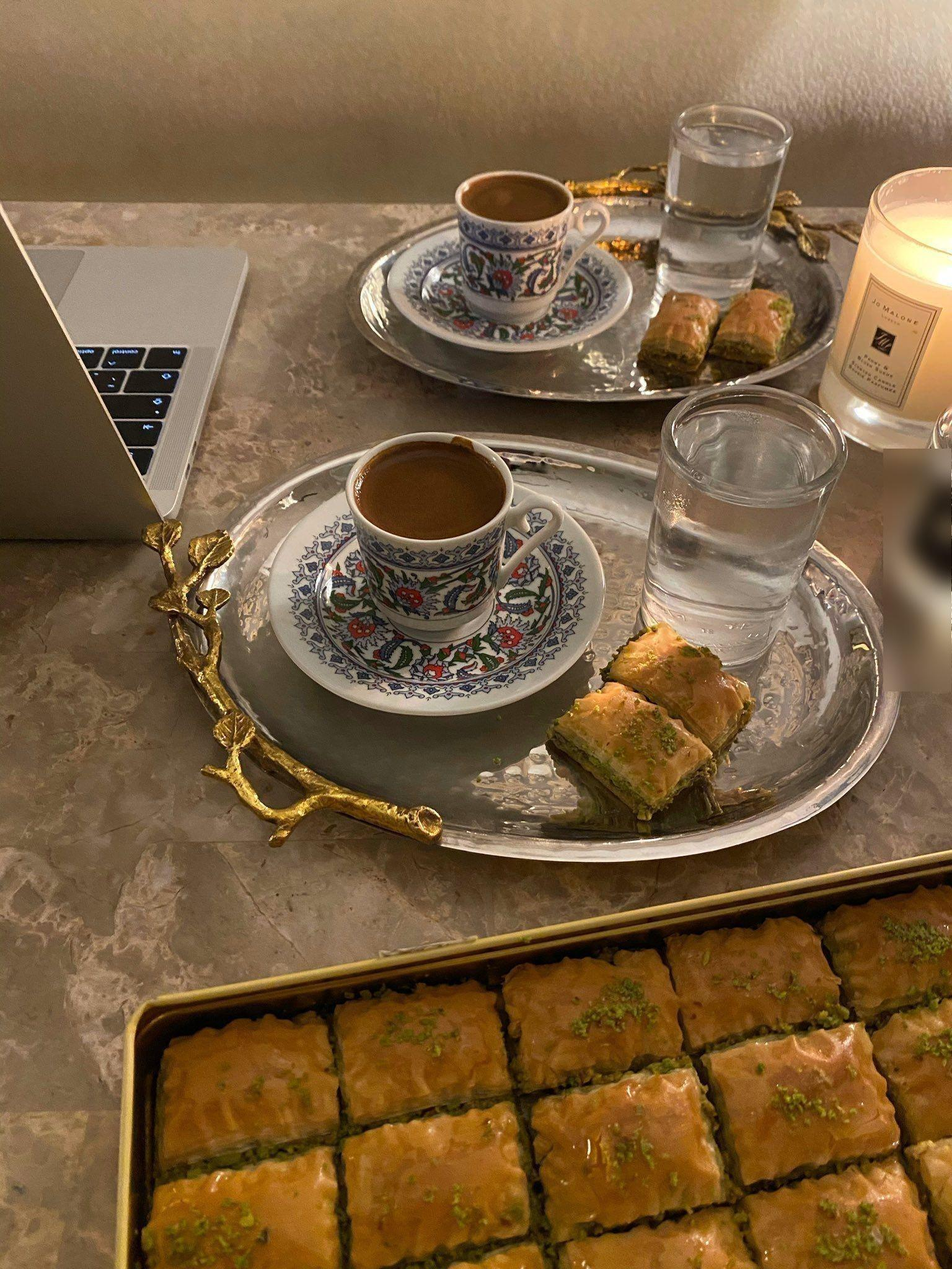cup-handle: (343, 428, 558, 648), (452, 169, 610, 323)
glass-normal: (644, 384, 848, 661), (818, 164, 951, 452), (654, 103, 792, 309)
